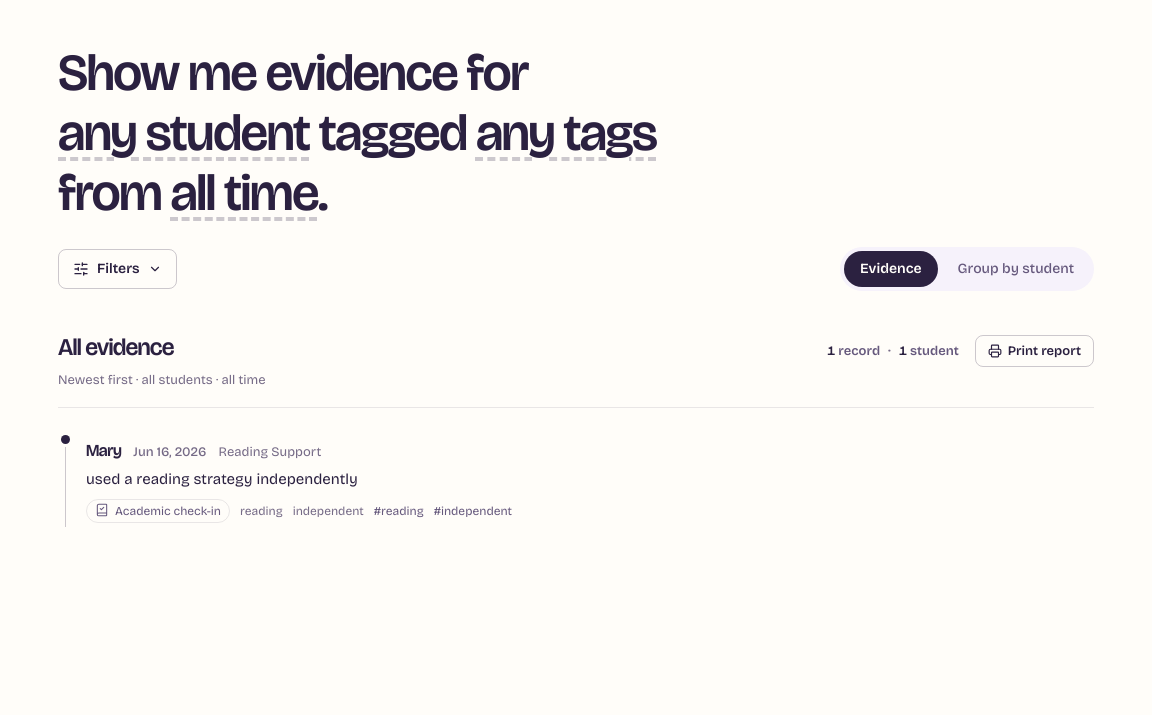
ExploreEvidencePage › adds evidence type and topic to the question and the applied query
Click the button "Filters" at (117, 269), box [58, 249, 177, 289]
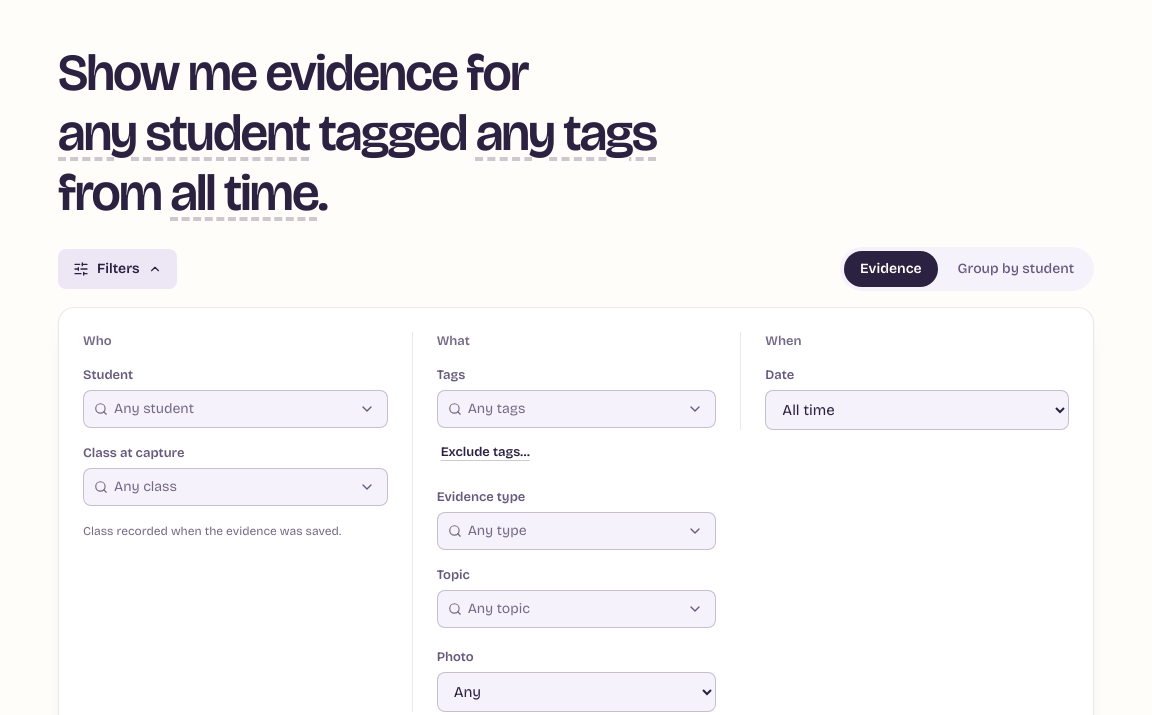
Type "Behavior" into the dropdown labelled "Evidence type" at (570, 531), box [468, 515, 671, 547]
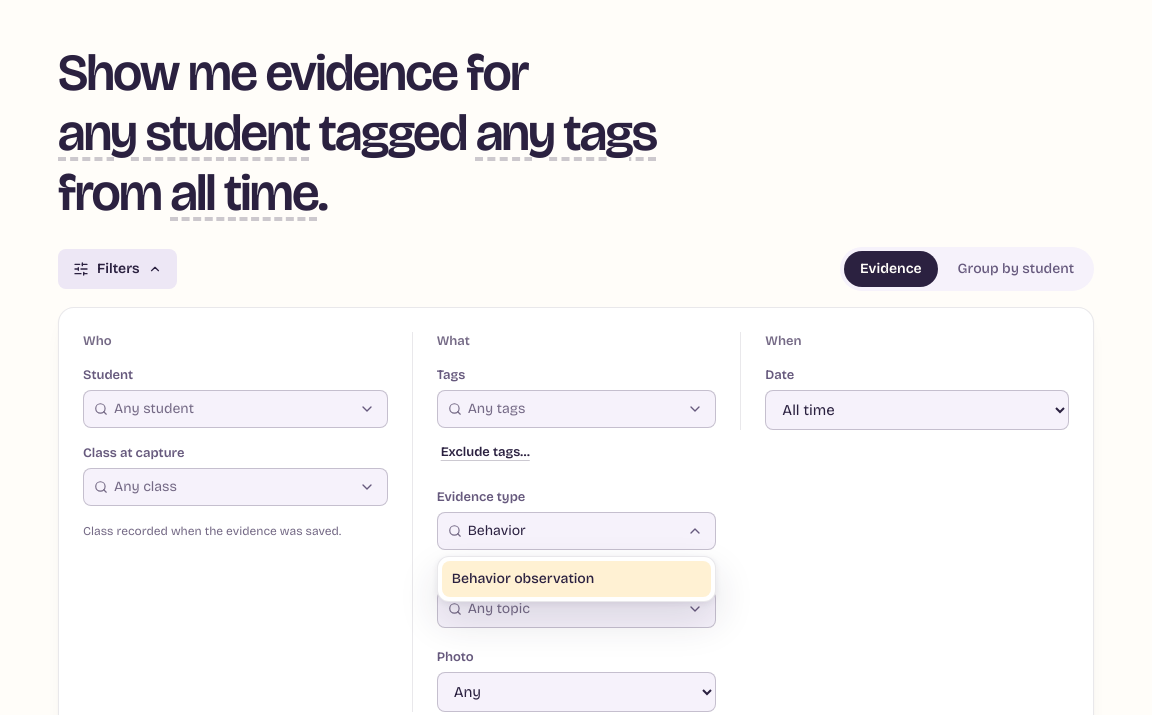
Press Enter in the dropdown labelled "Evidence type", box [468, 515, 671, 547]
(page scrolled)
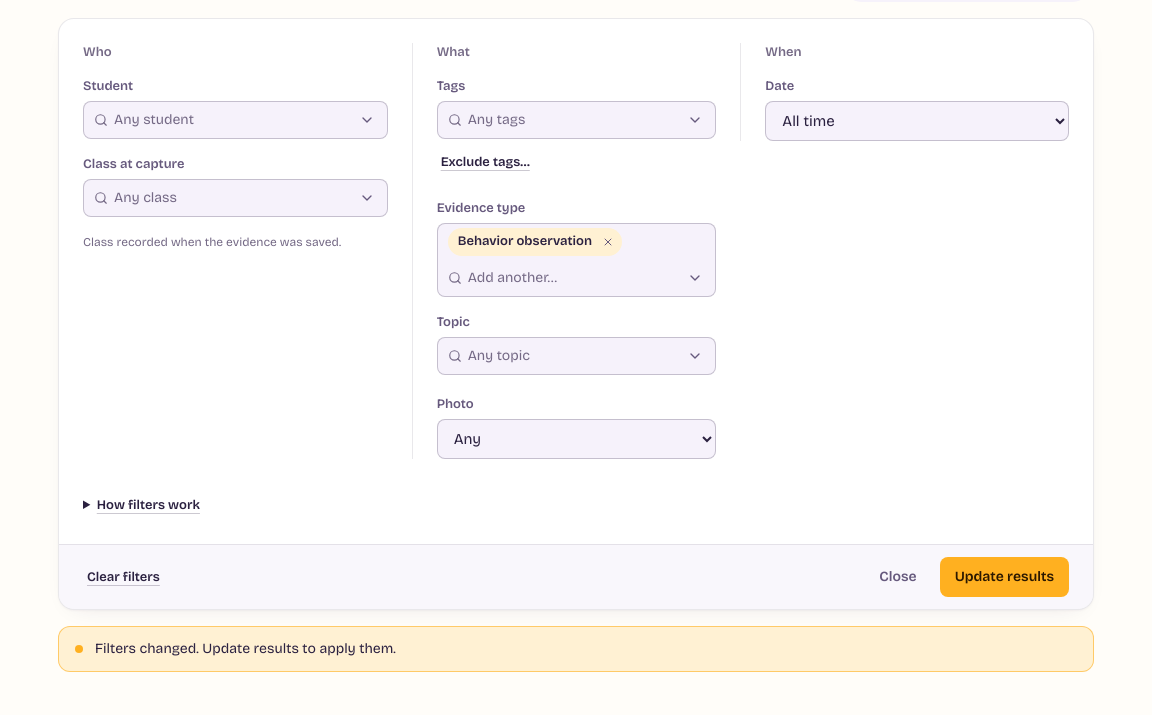
Type "Decimal" into the dropdown labelled "Topic" at (570, 356), box [468, 340, 671, 372]
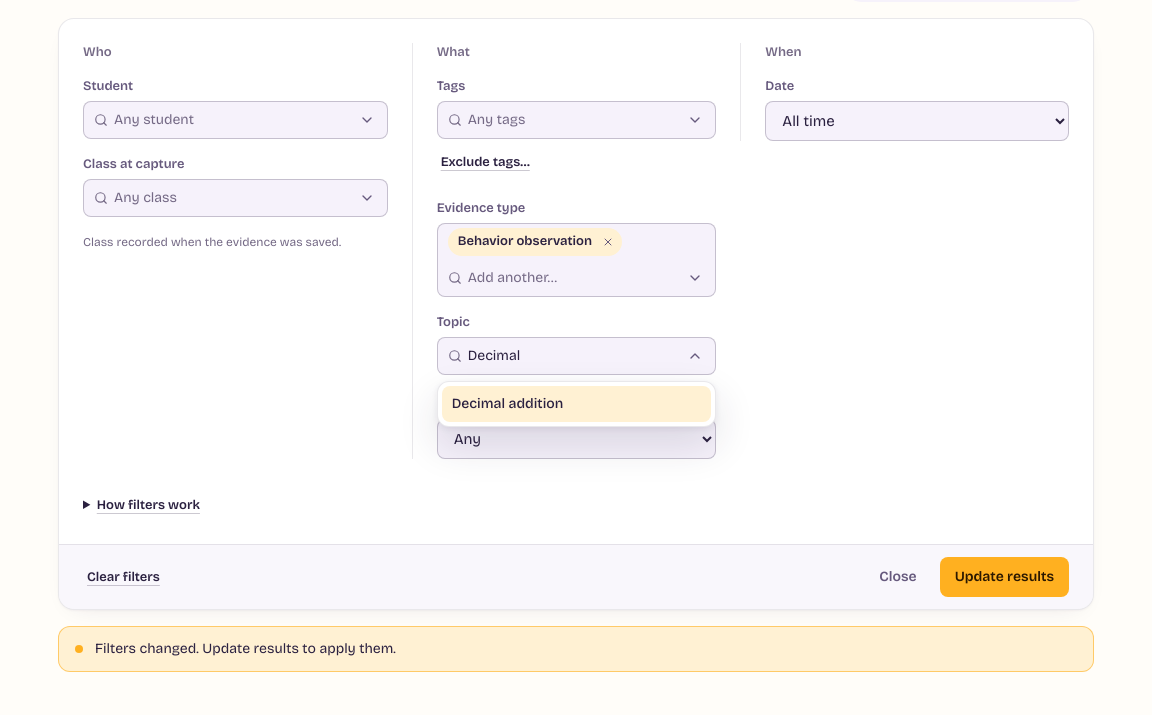
Press Enter in the dropdown labelled "Topic", box [468, 340, 671, 372]
(page scrolled)
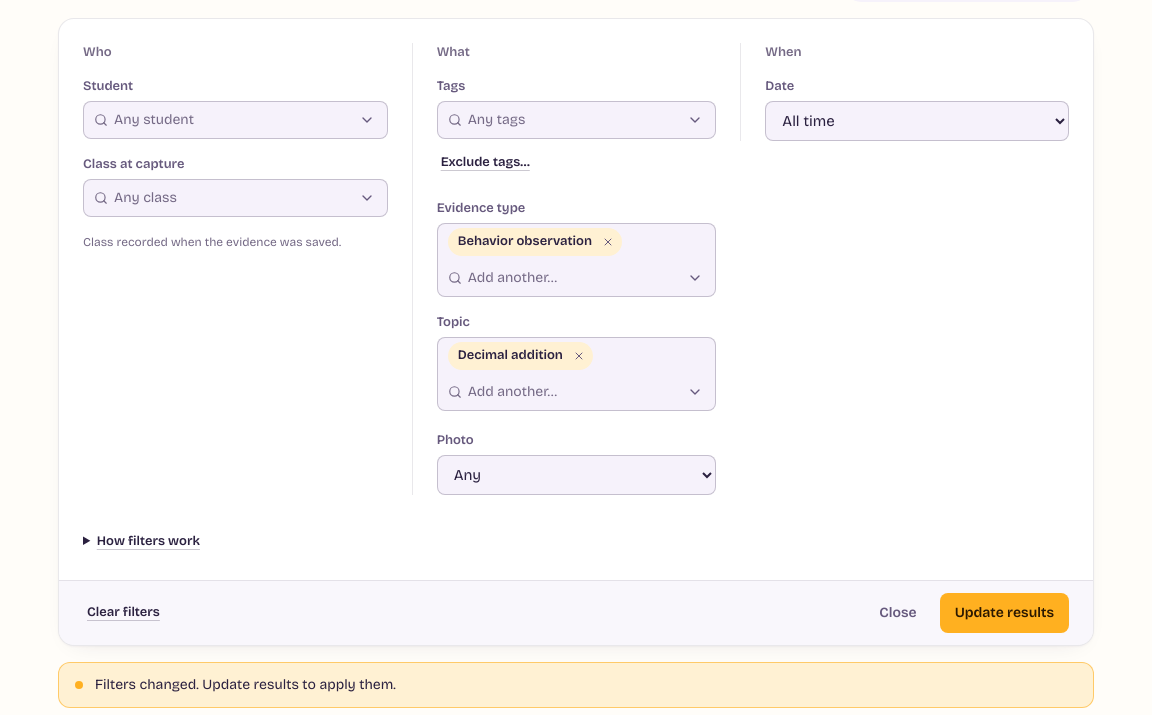
Click the button "Update results" at (1004, 613), box [940, 593, 1069, 633]
(page scrolled)
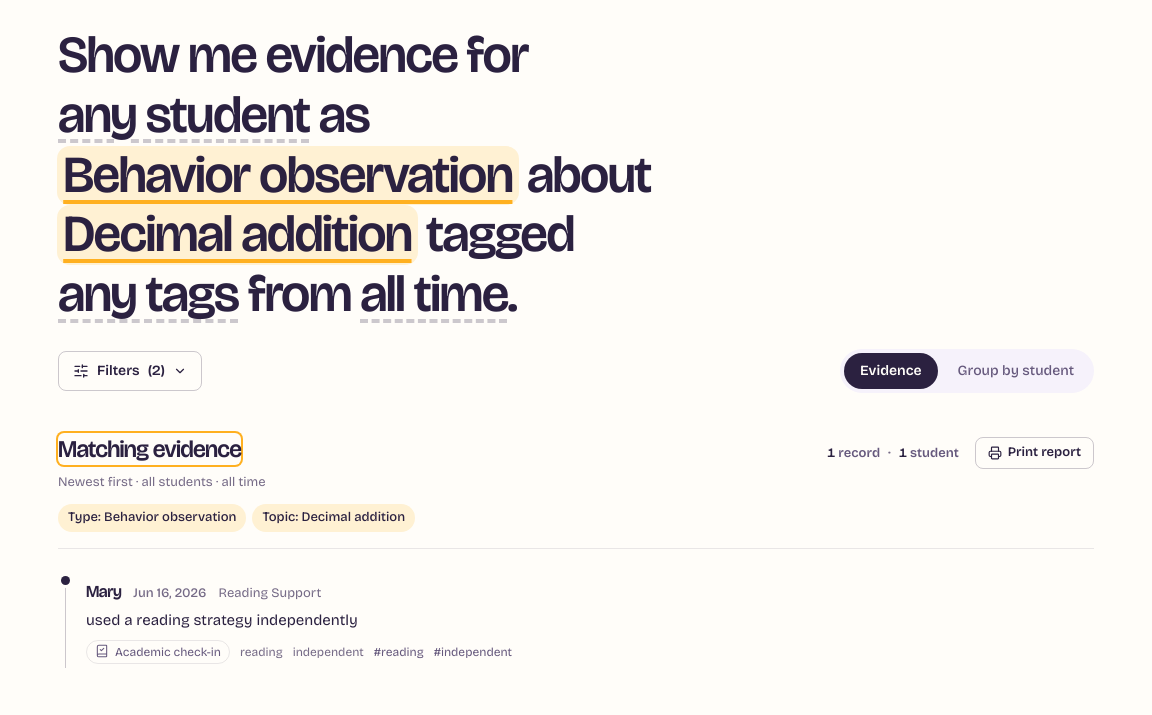
Check: the list named "Applied filters" shows "Type: Behavior observation", box [68, 510, 236, 526]
Check: the list named "Applied filters" shows "Topic: Decimal addition", box [262, 510, 405, 526]
